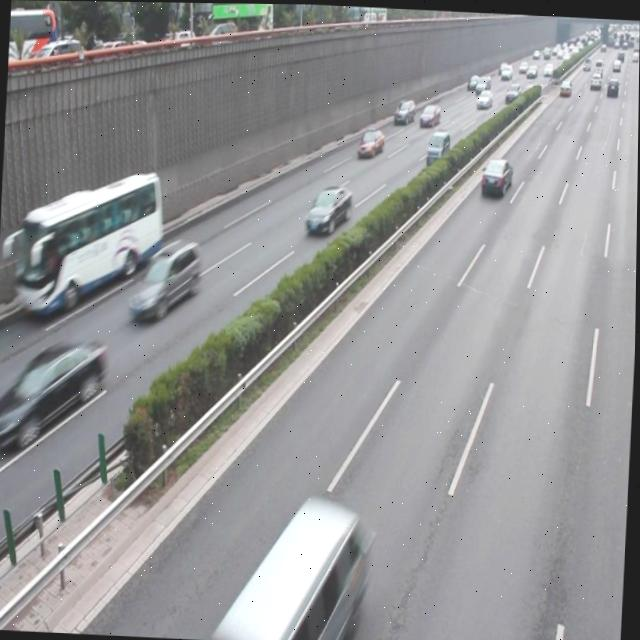car: (12, 336, 106, 439), (128, 236, 201, 319), (304, 183, 351, 234), (480, 155, 512, 195)
truck: (235, 495, 370, 640)
van: (17, 167, 166, 321)
